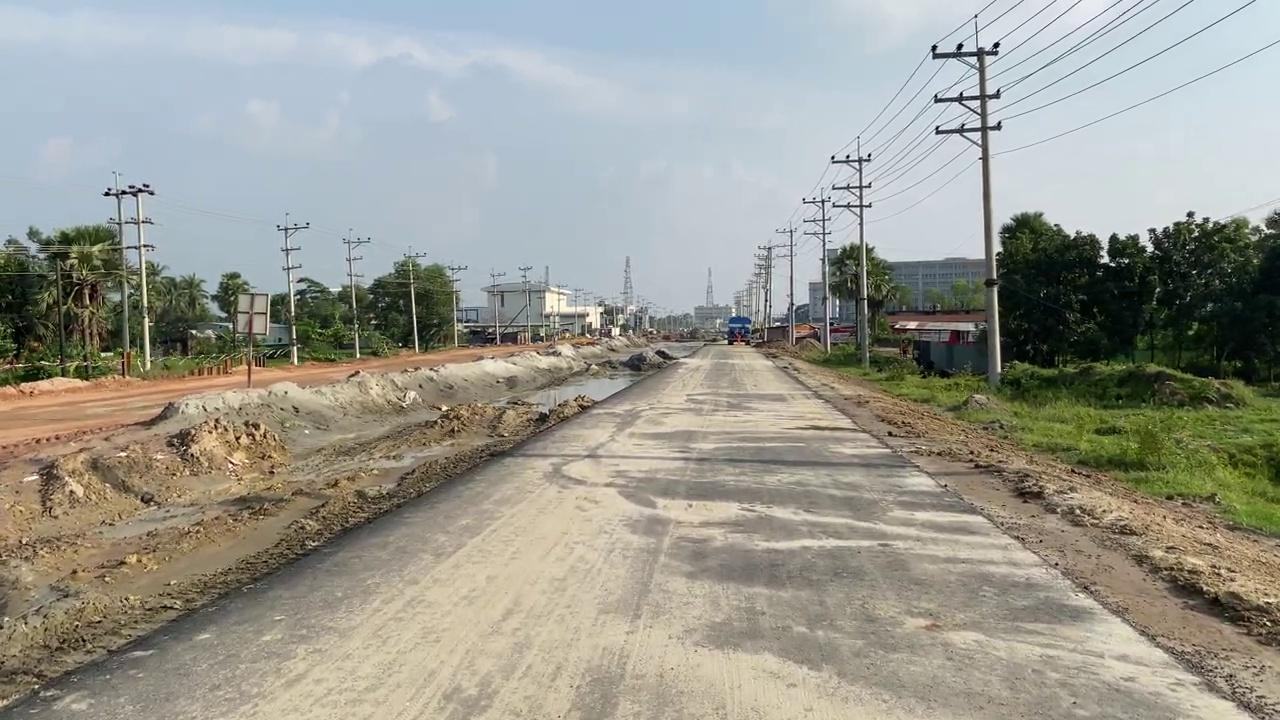Garbage-bin: (909, 327, 988, 376)
Pole: (930, 17, 1004, 387), (830, 141, 872, 369), (275, 212, 309, 365), (801, 193, 832, 354), (341, 228, 370, 358), (401, 247, 425, 353)
Rickshaw: (2, 336, 1275, 718)
Traffic-sign: (826, 240, 898, 351)
Tree: (726, 315, 752, 344)
